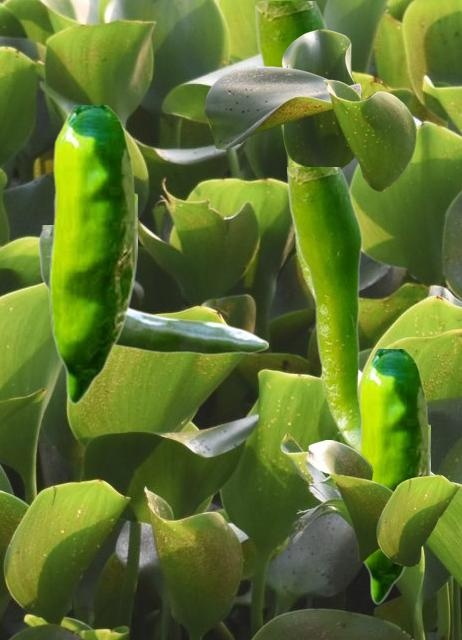green_chili: (38, 225, 267, 354), (48, 105, 136, 403), (255, 1, 329, 304), (287, 167, 364, 450), (355, 349, 429, 603)
